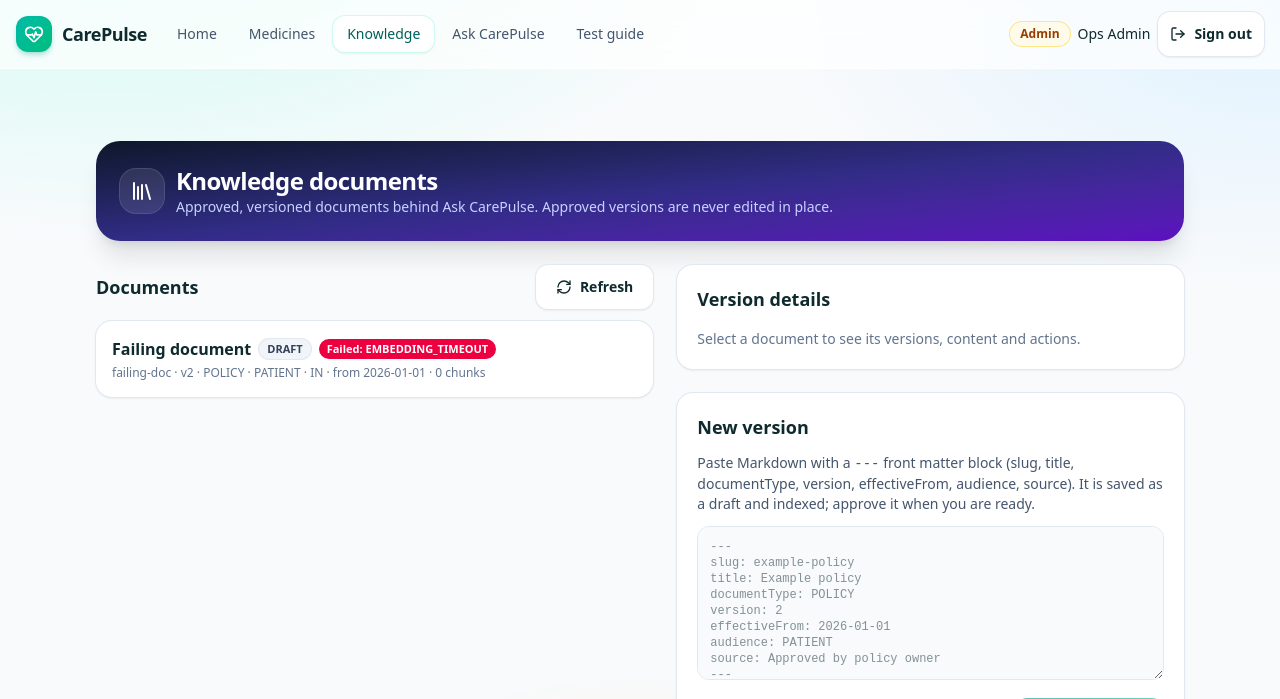
Scenario: Knowledge admin › shows a failed-indexing badge with the indexing code, and no approve action
Expected: the text "Failed: EMBEDDING_TIMEOUT" is shown, [319,339,496,359]
What coordinates should you click on to do the following:
click the button "Failing document"
I would click on:
 (375, 359)
Its box is [96,321,653,397].
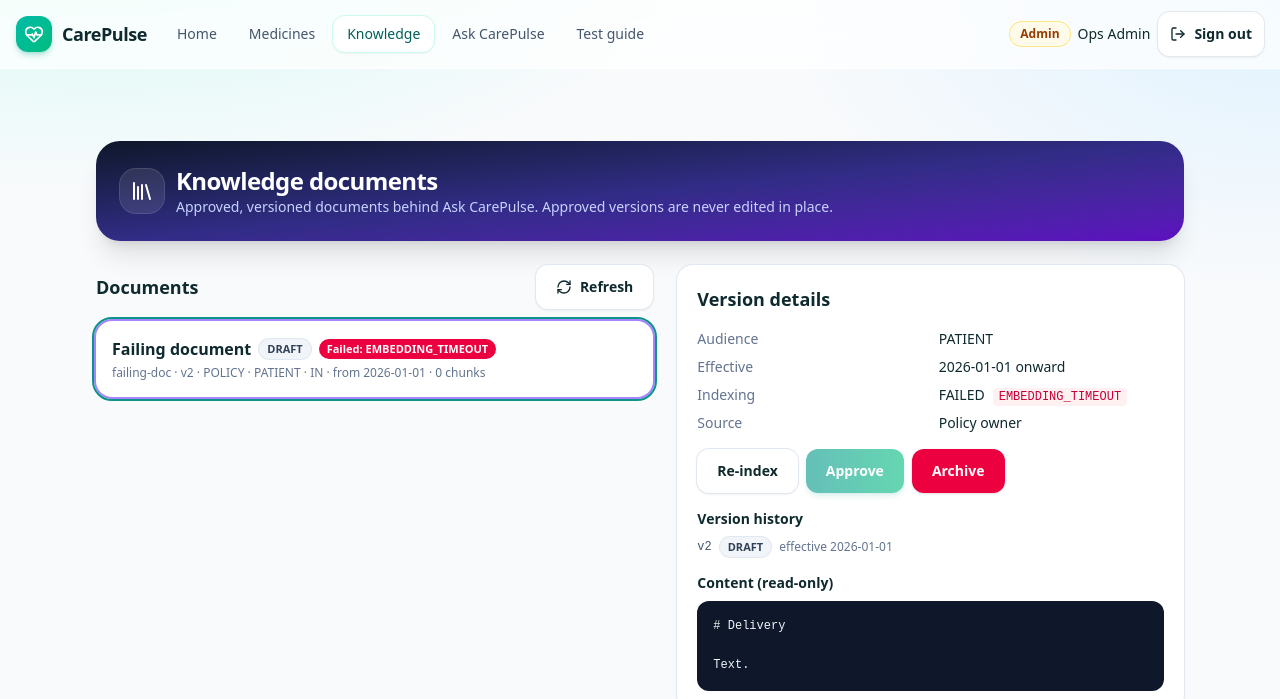
Now the text "EMBEDDING_TIMEOUT" is shown, box [993,388,1127,406]
Now the button "Approve" is disabled, box [806,449,904,493]
